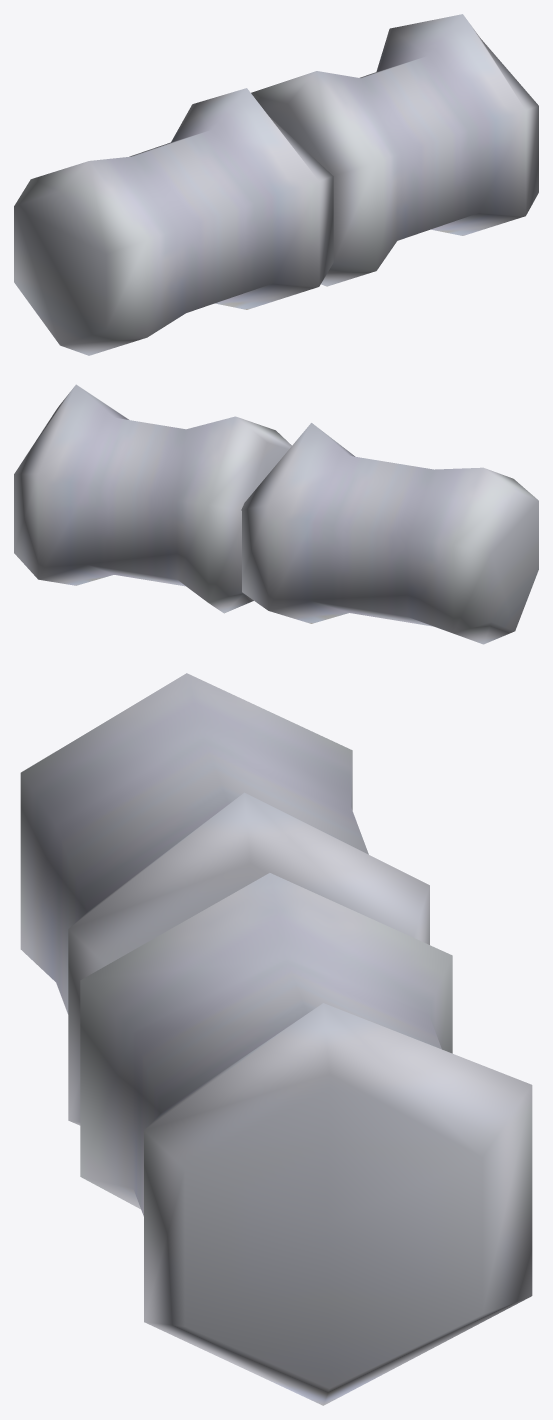
The model's file is HBrazoD.obj.
3 views of the same model, one above another, from view 1: azimuth 30°, elevation 25°; view 2: azimuth 150°, elevation 25°; view 3: azimuth 270°, elevation 25° (orthographic). The views are drawn at different scales.
Parts seen in each view (by area): view 1: R_foreArm; view 2: R_foreArm; view 3: R_foreArm.
Part boxes in pixels (x1,y1,x2,y2): R_foreArm: [14, 14, 538, 355]; R_foreArm: [14, 384, 538, 644]; R_foreArm: [20, 673, 532, 1405].
Bounding box in the file's own units: 0.3708 × 0.1631 × 0.1842.
2 materials, 2 textured.
